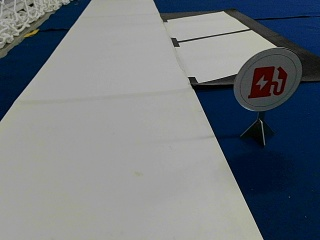battery: (233, 46, 302, 111)
